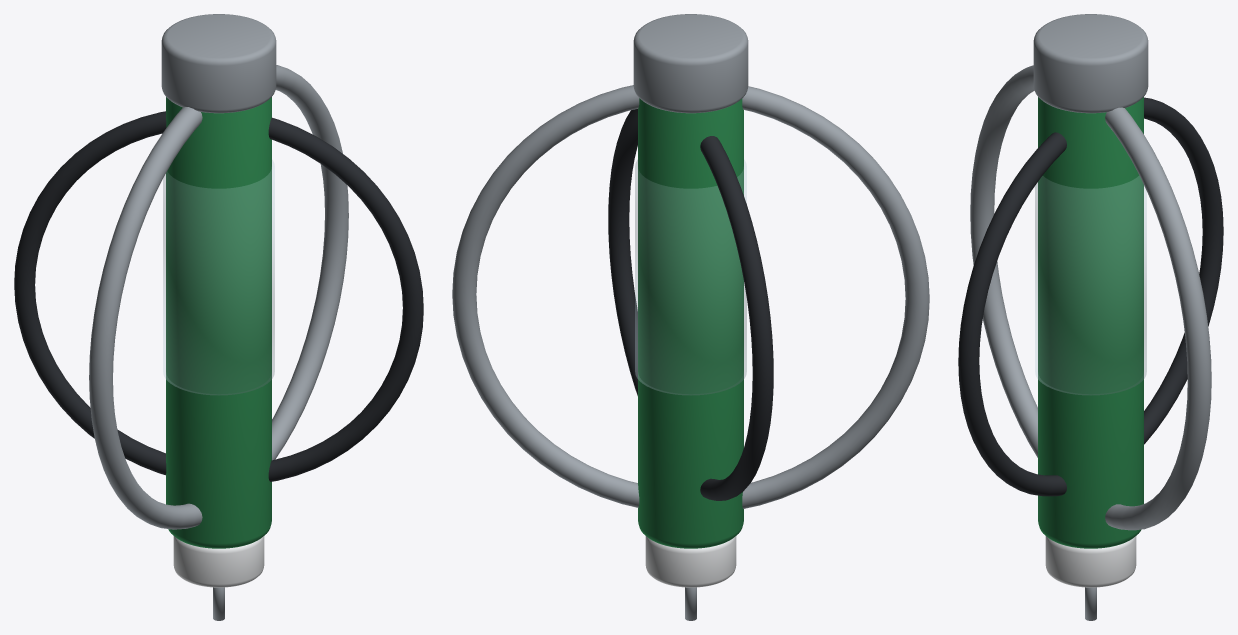
Rendered from stab.fbx.
3 views of the same model, side by side, from view 1: azimuth 30°, elevation 25°; view 2: azimuth 150°, elevation 25°; view 3: azimuth 270°, elevation 25° (orthographic).
Parts seen in each view (by area): view 1: pen, Cylinder.019, Torus.006, Torus.007, Cylinder.020, Cylinder.021; view 2: pen, Torus.006, Cylinder.019, Torus.007, Cylinder.020, Cylinder.021; view 3: pen, Cylinder.019, Torus.006, Torus.007, Cylinder.020, Cylinder.021, Cylinder.022.
Boxes of the visible parts, left/top/right/bottom form: pen: left=166, top=97, right=271, bottom=548; Cylinder.019: left=163, top=160, right=274, bottom=394; Torus.006: left=89, top=65, right=348, bottom=529; Torus.007: left=14, top=111, right=423, bottom=481; Cylinder.020: left=161, top=14, right=276, bottom=113; Cylinder.021: left=173, top=536, right=264, bottom=587; pen: left=638, top=98, right=743, bottom=548; Torus.006: left=452, top=85, right=929, bottom=508; Cylinder.019: left=635, top=160, right=746, bottom=394; Torus.007: left=608, top=109, right=773, bottom=500; Cylinder.020: left=633, top=14, right=748, bottom=113; Cylinder.021: left=645, top=536, right=736, bottom=587; pen: left=1038, top=97, right=1143, bottom=548; Cylinder.019: left=1035, top=176, right=1146, bottom=394; Torus.006: left=970, top=65, right=1211, bottom=530; Torus.007: left=958, top=97, right=1223, bottom=496; Cylinder.020: left=1033, top=14, right=1148, bottom=113; Cylinder.021: left=1045, top=536, right=1136, bottom=587; Cylinder.022: left=1085, top=587, right=1096, bottom=620.
Size of the model in its own units: 27.92 by 42.5 by 17.55.
